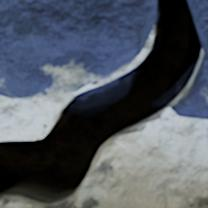broken_brick: (0, 0, 153, 99), (179, 57, 207, 120), (195, 0, 207, 51)
crack: (0, 0, 207, 207)
